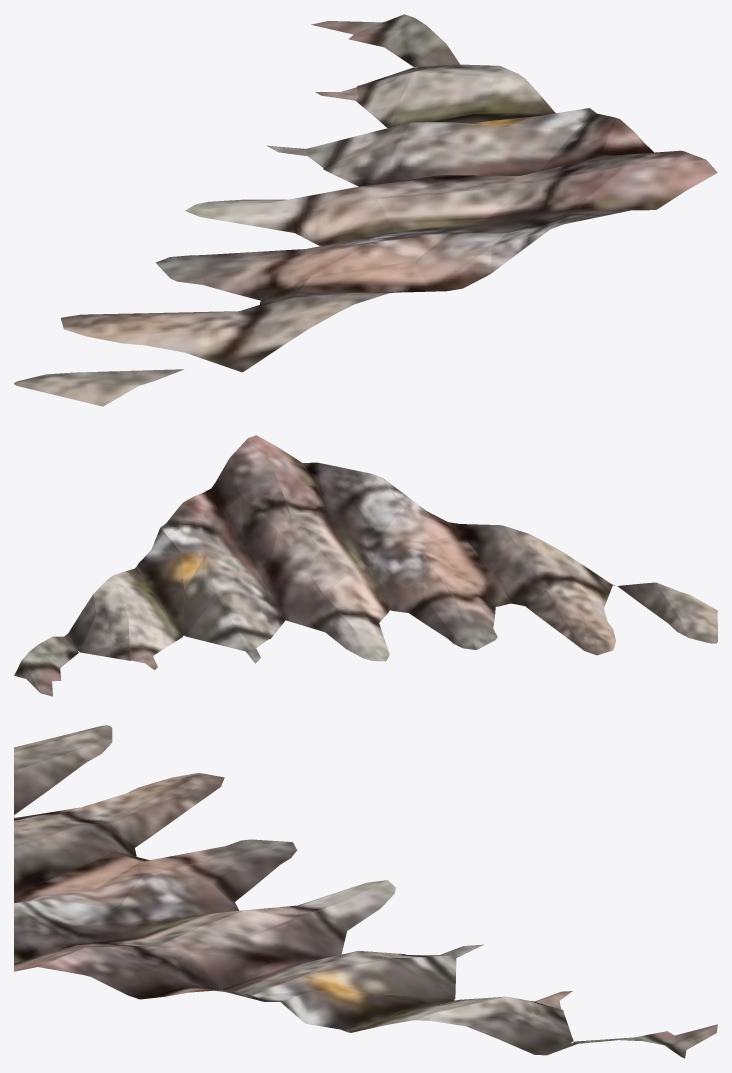
3 renders of one model, top to bottom at view 1: azimuth 30°, elevation 25°; view 2: azimuth 150°, elevation 25°; view 3: azimuth 270°, elevation 25°, orthographic. The views are drawn at different scales.
Size of the model in its own units: 1.07 by 0.1367 by 0.9513.
Materials: 1 (1 with a texture image).
